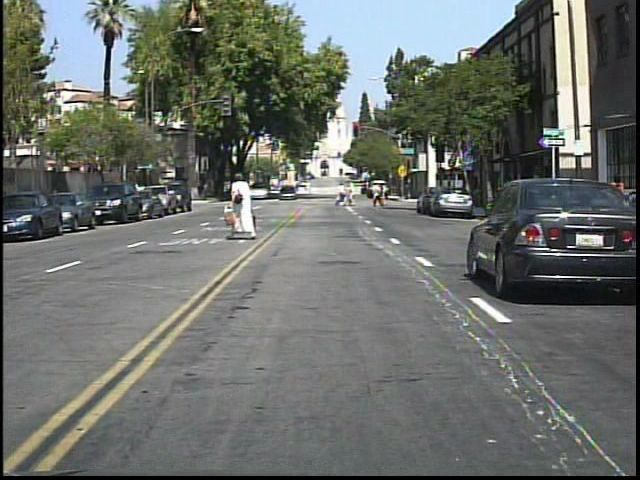person: (225, 169, 265, 247), (609, 167, 630, 231), (503, 168, 524, 219), (371, 178, 386, 209), (347, 179, 359, 209)
